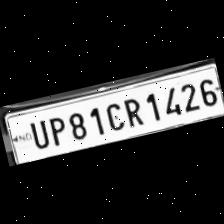1: (138, 88, 162, 124), (85, 104, 108, 138)
2: (176, 78, 200, 114)
4: (157, 83, 183, 118)
6: (195, 75, 220, 109)
8: (64, 108, 90, 142)
C: (100, 99, 126, 134)
P: (43, 113, 70, 148)
R: (119, 94, 146, 130)
U: (24, 118, 50, 152)
